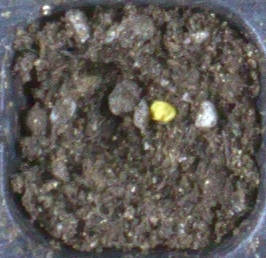chilli seed: (150, 100, 175, 123)
